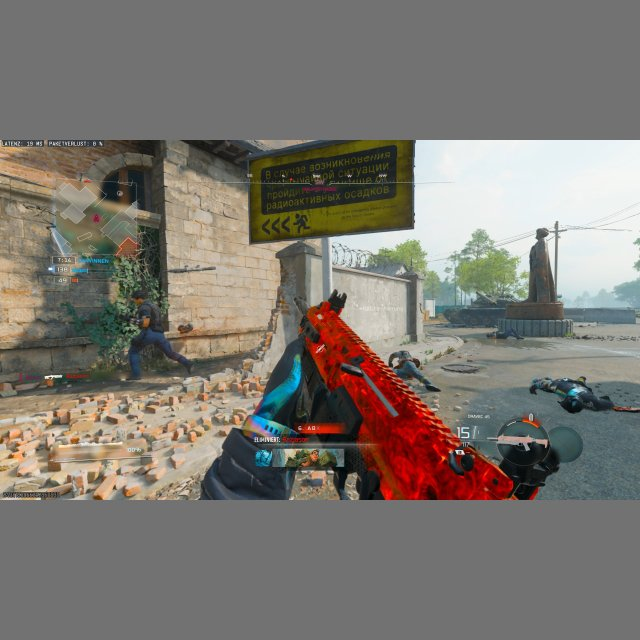head: (132, 290, 146, 305), (529, 382, 539, 395)
player: (123, 290, 195, 380)
